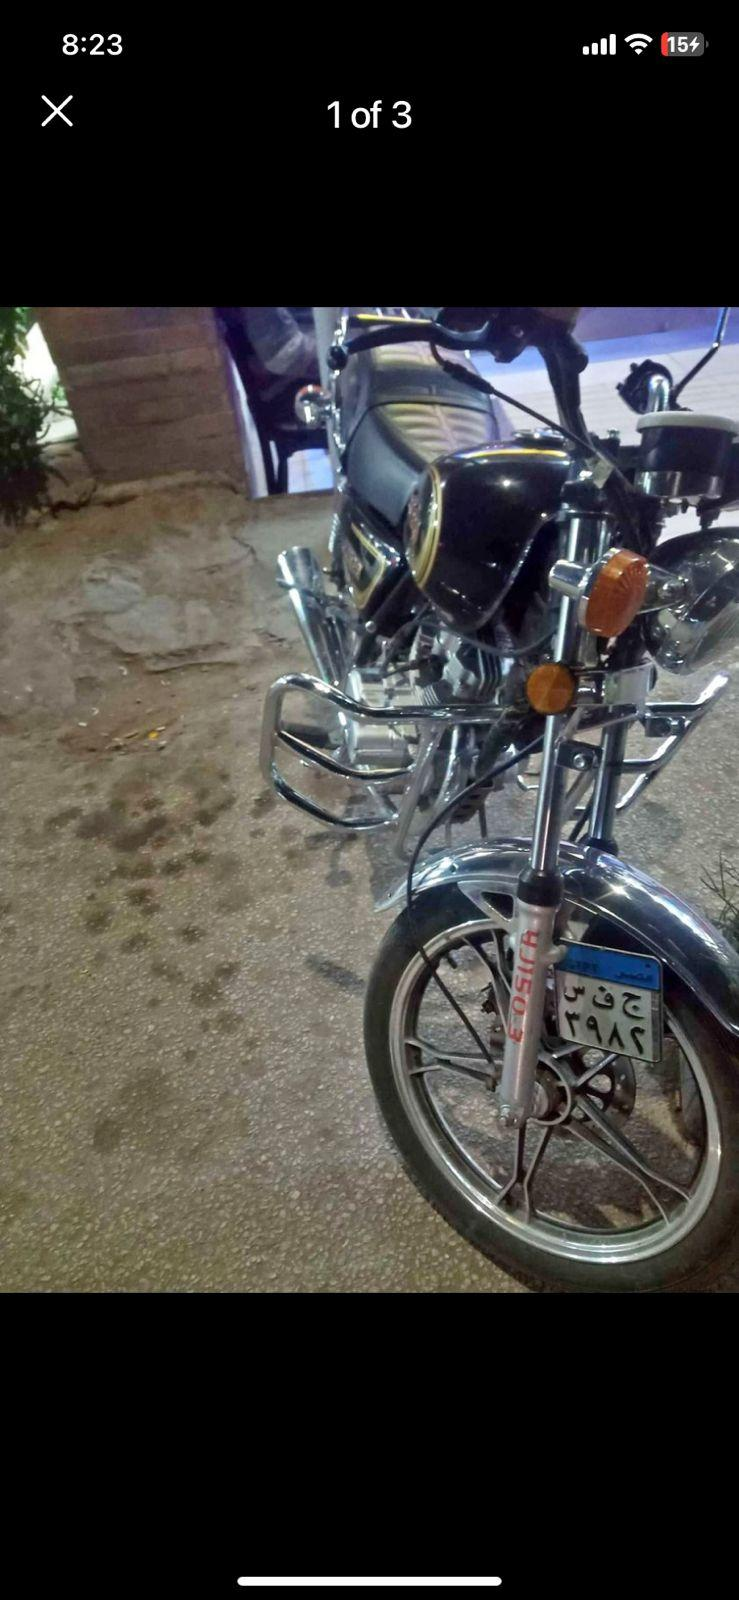License Plate: (556, 937, 664, 1062)
